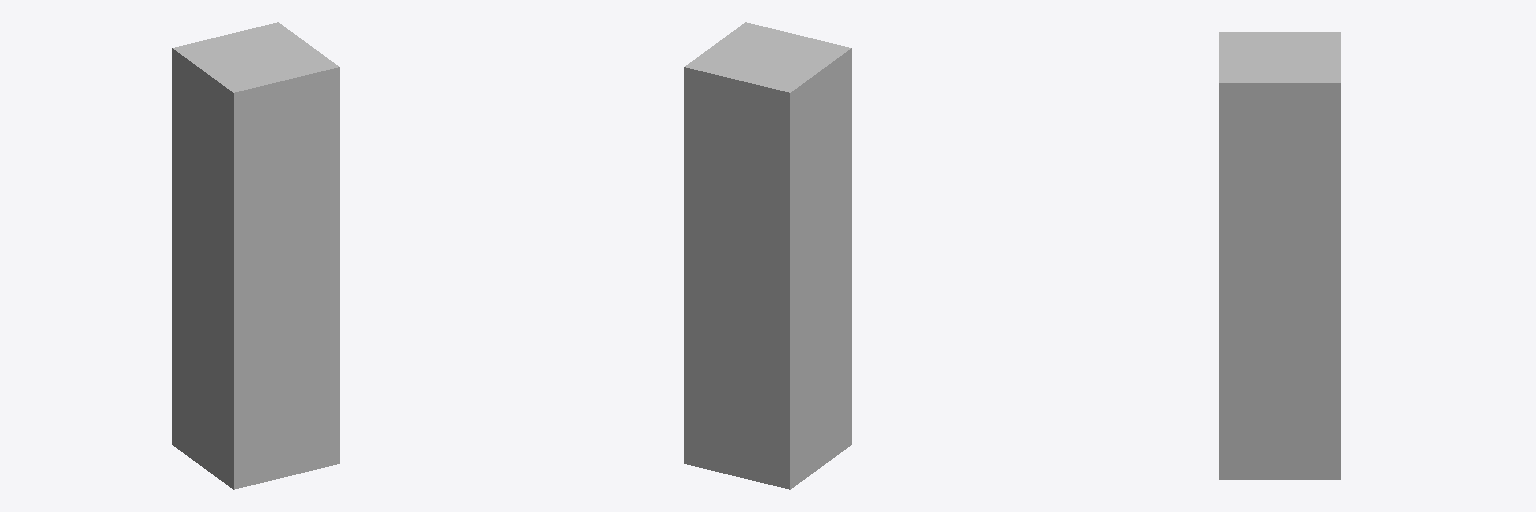
The model's file is artifact_hand.obj.
3 views of the same model, side by side, from view 1: azimuth 30°, elevation 25°; view 2: azimuth 150°, elevation 25°; view 3: azimuth 270°, elevation 25° (orthographic).
Visible parts, largest first — view 1: Right Arm Layer; view 2: Right Arm Layer; view 3: Right Arm Layer.
Boxes of the visible parts, x1,y1,x2,y2 form: Right Arm Layer: [172, 22, 339, 489]; Right Arm Layer: [684, 22, 851, 489]; Right Arm Layer: [1219, 32, 1340, 479].
Bounding box in the file's own units: 0.2188 × 0.7812 × 0.2188.